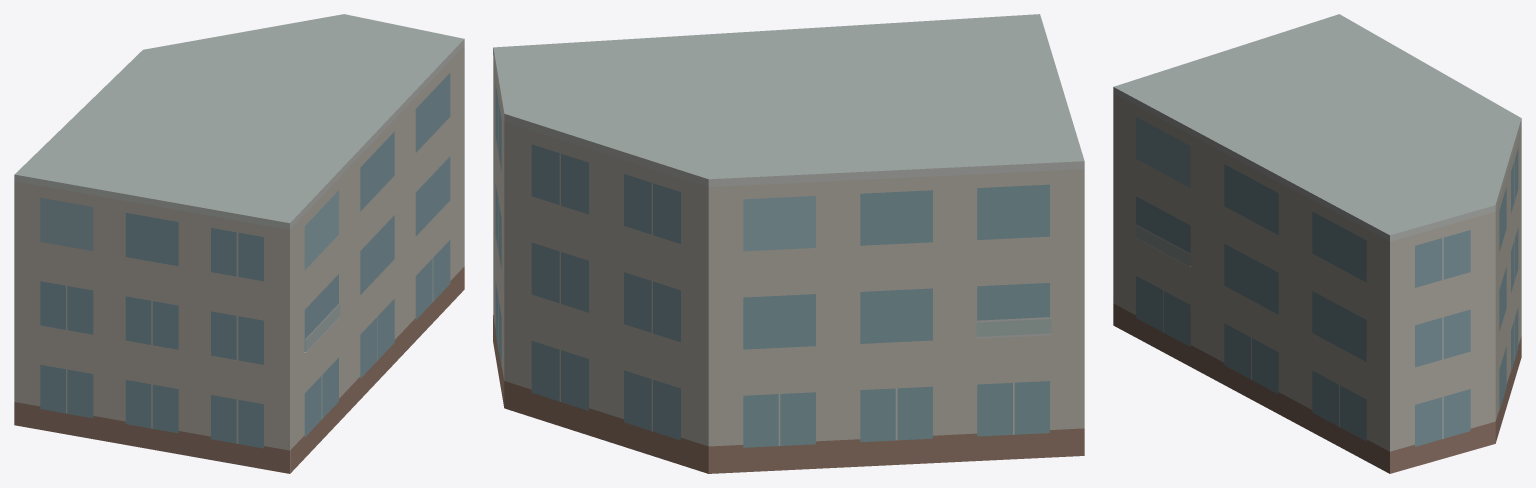
The model's file is survey-upis-32779642.glb.
The picture shows the model from 3 angles, left to right: view 1: azimuth 30°, elevation 25°; view 2: azimuth 150°, elevation 25°; view 3: azimuth 270°, elevation 25°; orthographic projection. The views are drawn at different scales.
Visible parts, largest first — view 1: survey-upis-32779642.tmp; view 2: survey-upis-32779642.tmp; view 3: survey-upis-32779642.tmp.
Part boxes in pixels (box(x1,y1,x2,y2)): survey-upis-32779642.tmp: box(14, 14, 464, 473); survey-upis-32779642.tmp: box(493, 14, 1084, 473); survey-upis-32779642.tmp: box(1113, 14, 1521, 473).
Size of the model in its own units: 18.22 by 9.15 by 14.2.
